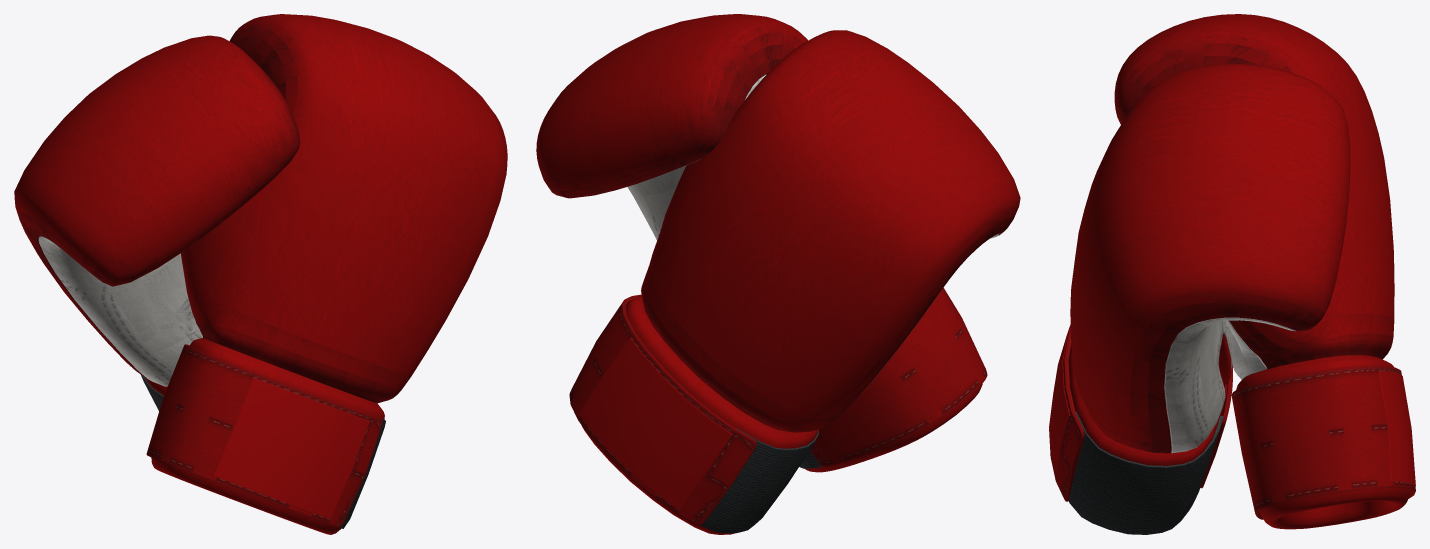
3 renders of one model, left to right at view 1: azimuth 30°, elevation 25°; view 2: azimuth 150°, elevation 25°; view 3: azimuth 270°, elevation 25°, orthographic. The views are drawn at different scales.
Parts seen in each view (by area): view 1: BoxDX2, BoxDX; view 2: BoxDX, BoxDX2; view 3: BoxDX2, BoxDX.
Part boxes in pixels (x1,y1,x2,y2): BoxDX2: (146, 14, 507, 534); BoxDX: (14, 35, 300, 411); BoxDX: (569, 30, 1020, 534); BoxDX2: (536, 14, 987, 472); BoxDX2: (1049, 64, 1350, 534); BoxDX: (1114, 14, 1415, 529).
Bounding box in the file's own units: 213 × 213 × 147.
Materials: 1 (1 with a texture image).
